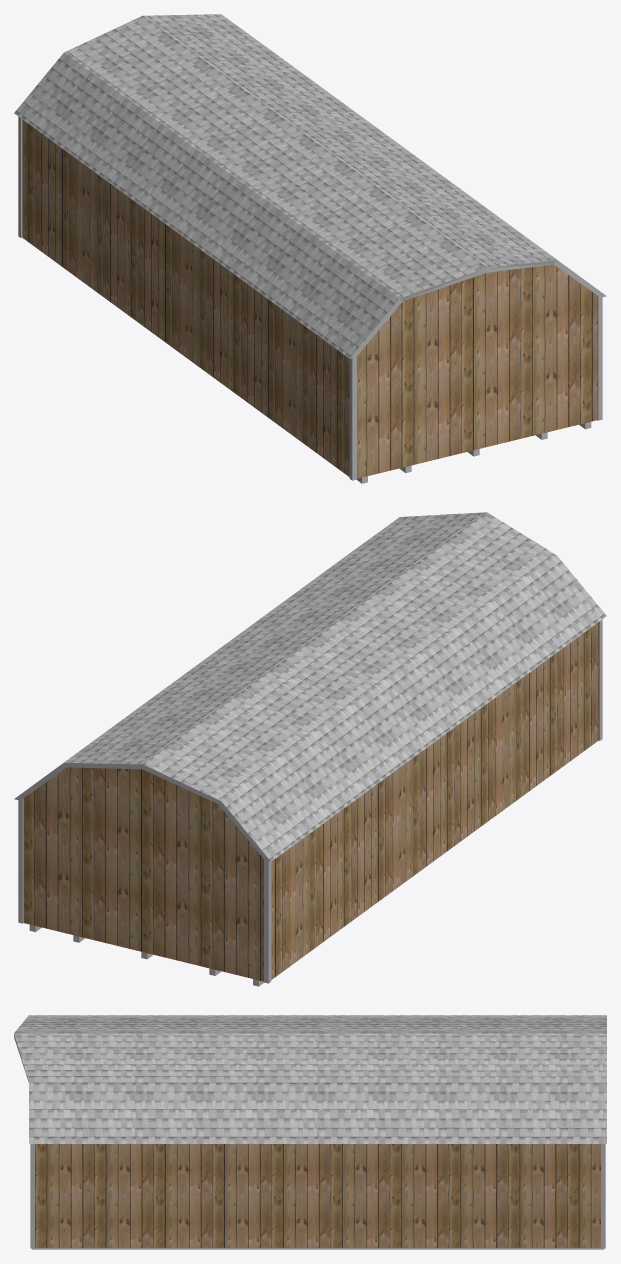
File: High Wall Barns_14x32.obj
3 renders of one model, top to bottom at view 1: azimuth 30°, elevation 25°; view 2: azimuth 150°, elevation 25°; view 3: azimuth 270°, elevation 25°, orthographic. The views are drawn at different scales.
Visible parts, largest first — view 1: Roof, Shed, Trim, Sides; view 2: Roof, Shed, Trim, Sides; view 3: Roof, Shed, Floor, Trim.
Boxes of the visible parts, x1,y1,x2,y2 form: Roof: (14,14,588,358); Shed: (22,119,597,478); Trim: (18,116,602,480); Sides: (350,260,606,358); Roof: (34,512,606,861); Shed: (23,622,598,981); Trim: (18,619,602,983); Sides: (14,763,270,861); Roof: (14,1015,606,1143); Shed: (35,1144,600,1247); Floor: (32,1248,603,1249); Trim: (30,1144,605,1248).
Bounding box in the file's own units: 4.36 × 3.17 × 10.11.
